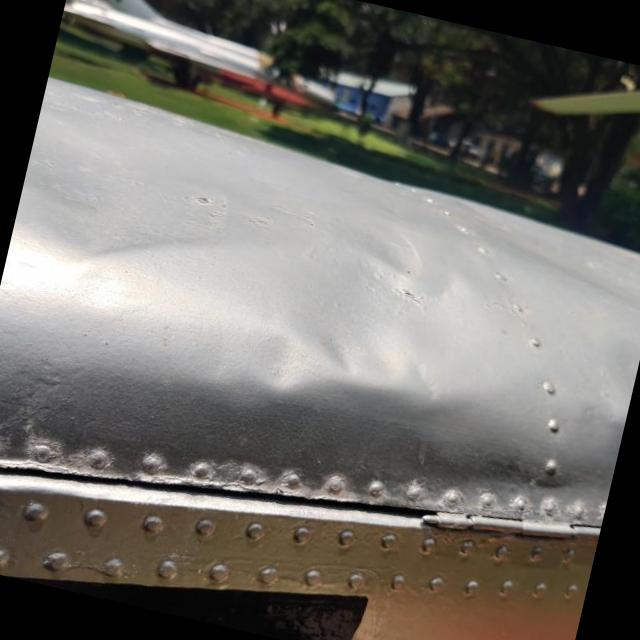Dent: (216, 198, 530, 477)
